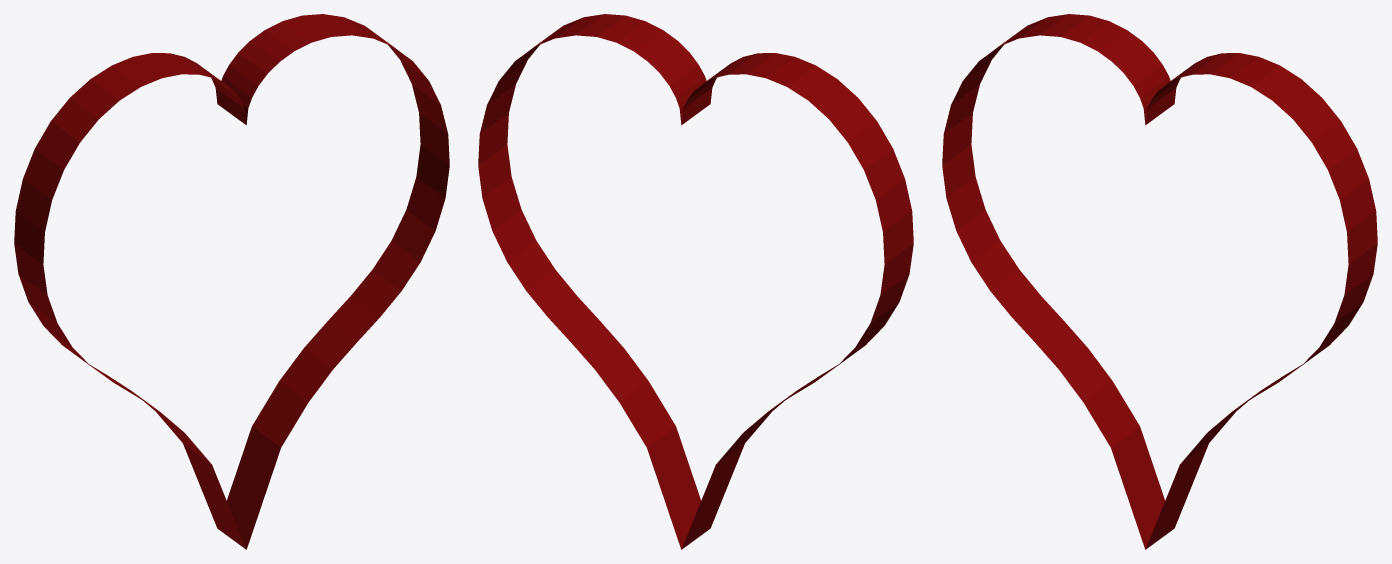
The model's file is heart-outline.obj.
3 views of the same model, side by side, from view 1: azimuth 30°, elevation 25°; view 2: azimuth 150°, elevation 25°; view 3: azimuth 330°, elevation 25° (orthographic).
Visible parts, largest first — view 1: heart.009; view 2: heart.009; view 3: heart.009.
Part boxes in pixels (x1,y1,x2,y2): heart.009: (14, 14, 449, 549); heart.009: (478, 14, 913, 549); heart.009: (942, 14, 1377, 549).
Size of the model in its own units: 4.01 by 4.64 by 0.5.
